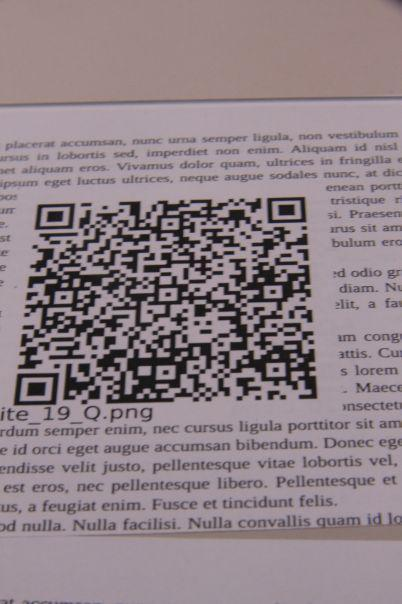qr_code: (14, 196, 318, 406)
